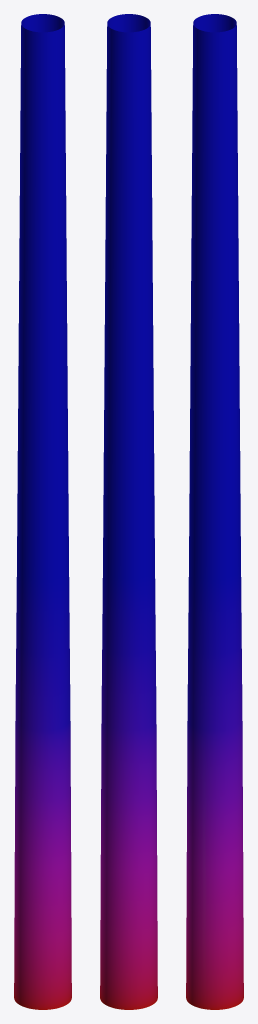
The model's file is wind_turbine_pylon_test_01.fbx.
The picture shows the model from 3 angles, left to right: view 1: azimuth 90°, elevation 25°; view 2: azimuth 150°, elevation 25°; view 3: azimuth 270°, elevation 25°; orthographic projection.
Parts seen in each view (by area): view 1: Cylinder; view 2: Cylinder; view 3: Cylinder.
Boxes of the visible parts, x1,y1,x2,y2 form: Cylinder: (14,14,71,1009); Cylinder: (100,14,157,1009); Cylinder: (186,14,243,1009).
Bounding box in the file's own units: 400 × 7439 × 400.
